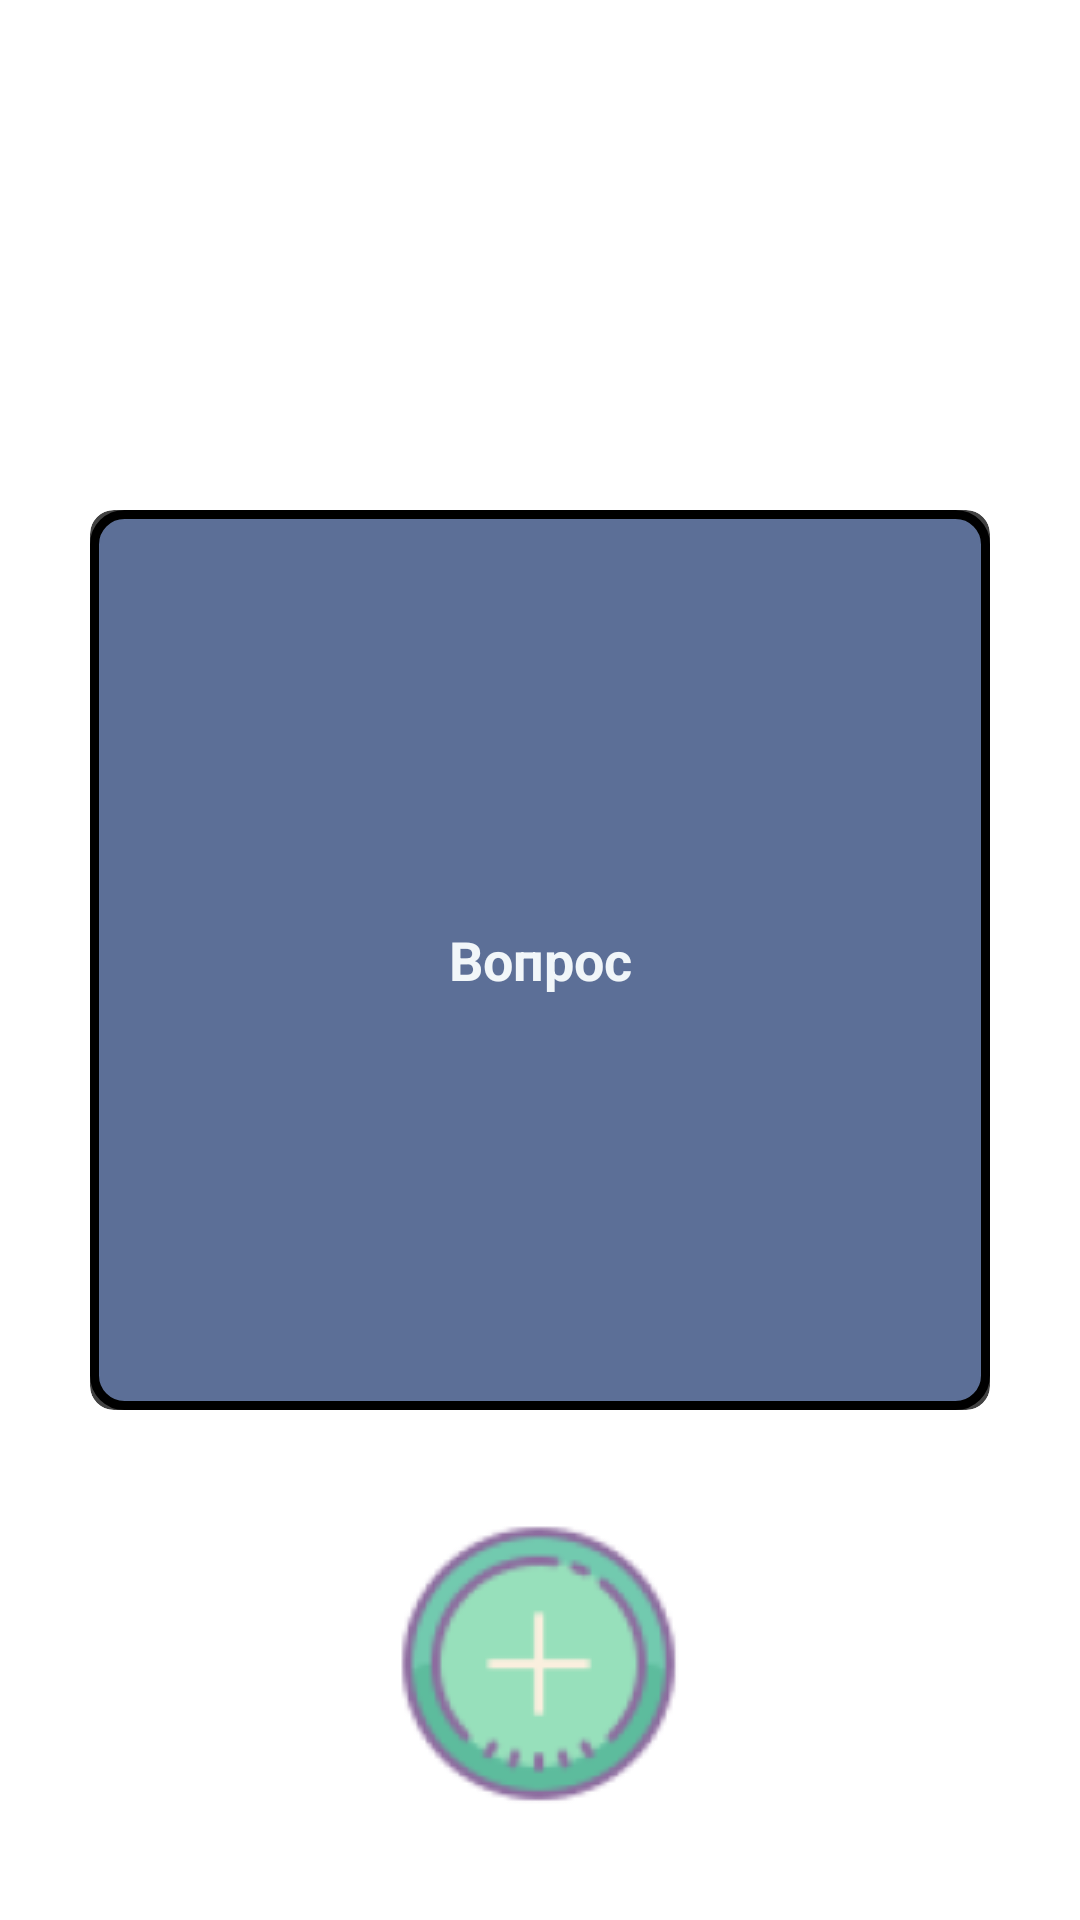

Screen size 1080x1920. Icon name, then its center in pixels as point (x, y):
plus: point (538, 1663)
